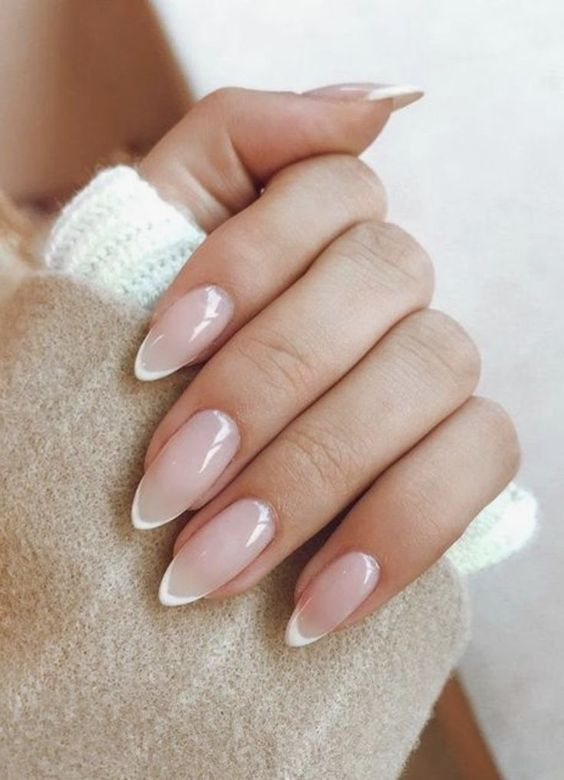nails: (122, 401, 248, 533), (153, 492, 283, 607), (275, 539, 398, 648), (131, 276, 237, 387), (292, 72, 428, 120)
